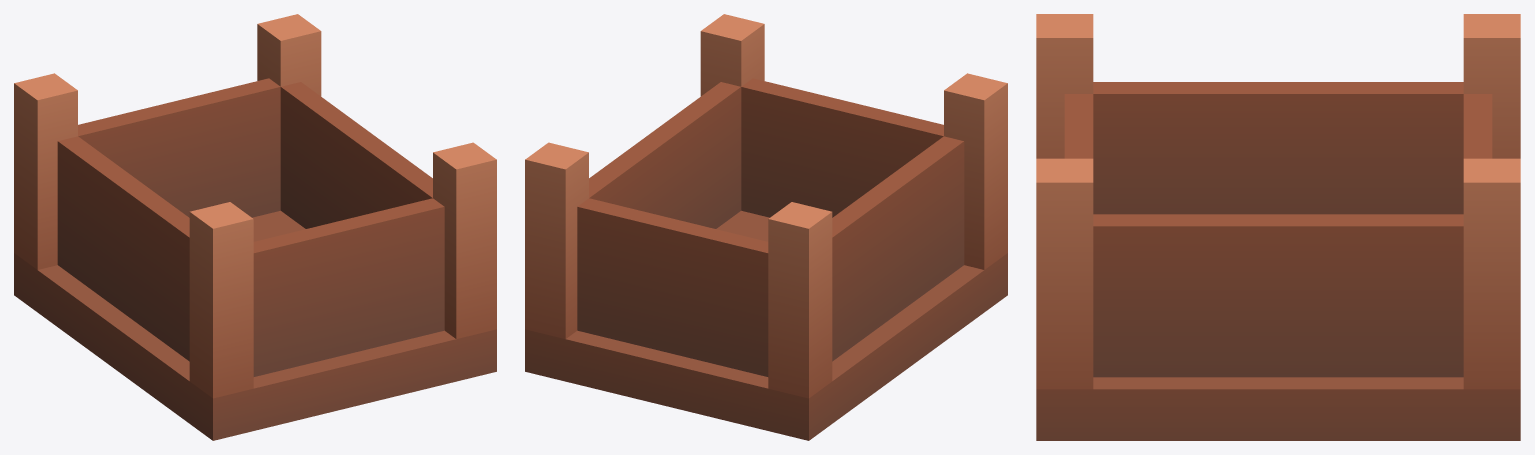
The model's file is crate.glb.
3 renders of one model, left to right at view 1: azimuth 30°, elevation 25°; view 2: azimuth 150°, elevation 25°; view 3: azimuth 270°, elevation 25°, orthographic. The views are drawn at different scales.
Parts seen in each view (by area): view 1: crate; view 2: crate; view 3: crate.
Boxes of the visible parts, x1,y1,x2,y2 form: crate: (14,14,496,440); crate: (525,14,1007,440); crate: (1036,14,1520,440).
Bounding box in the file's own units: 1.08 × 0.77 × 1.31.
Materials: 1 (1 with a texture image).
